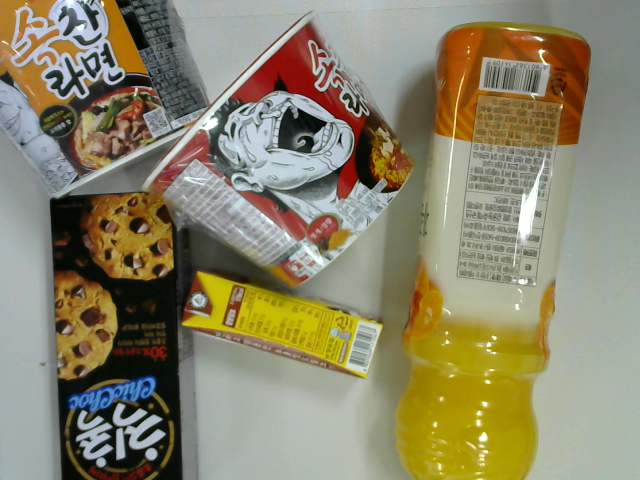Chicchok_Original_2400: (49, 192, 188, 476)
Choco_E_Mong: (179, 265, 390, 382)
Hejangchan: (1, 1, 213, 200)
Hejangpul: (140, 12, 417, 296)
Jeju_Tangerine_1.5L: (392, 22, 594, 479)
